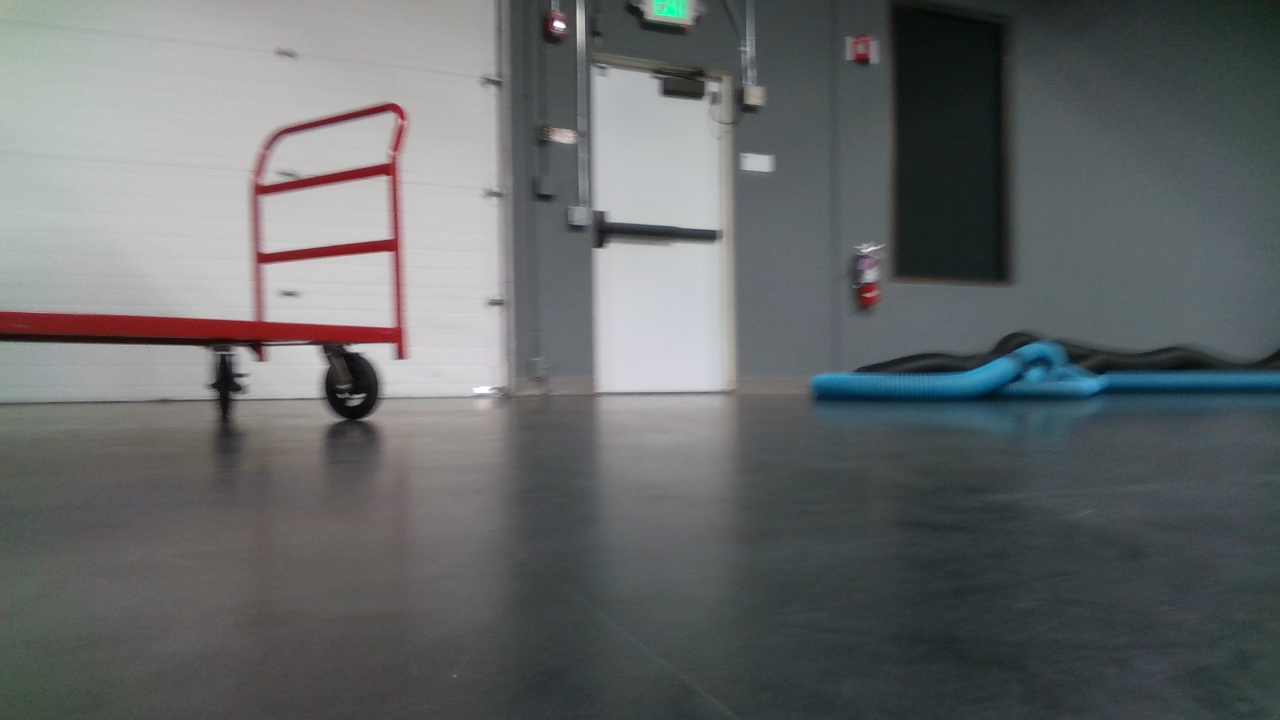Dolly: (0, 99, 409, 424)
Wheel: (320, 351, 382, 422), (205, 352, 248, 417)
